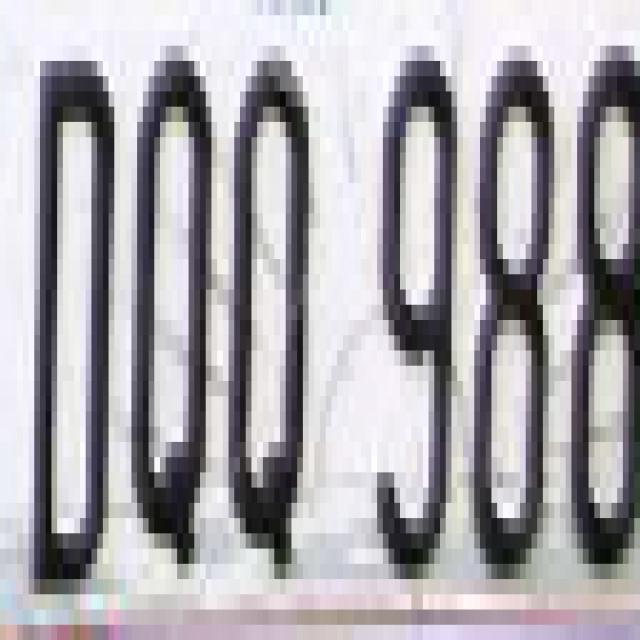8: (470, 44, 556, 596), (568, 32, 640, 580)
9: (370, 39, 462, 586)
D: (27, 32, 112, 600)
Q: (127, 29, 218, 594), (226, 34, 318, 586)
